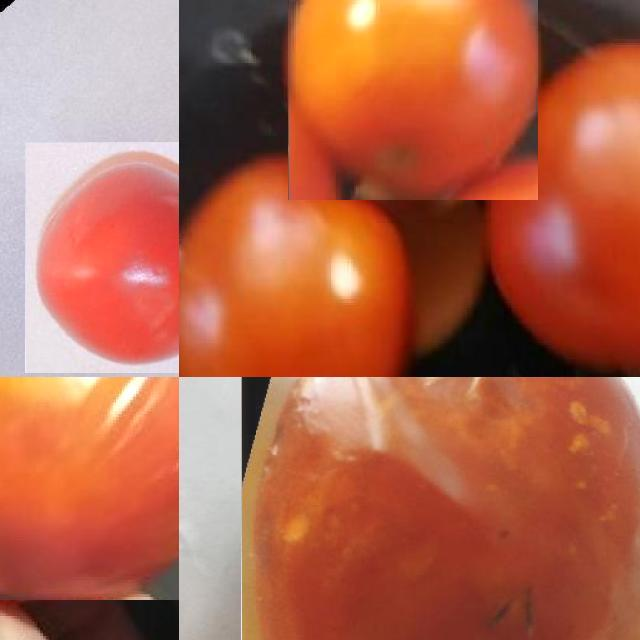Fresh Tomato: (179, 151, 408, 377), (288, 0, 538, 199), (494, 48, 640, 375), (25, 142, 179, 373)
Rotten Tomato: (241, 377, 640, 640), (0, 377, 179, 600)
